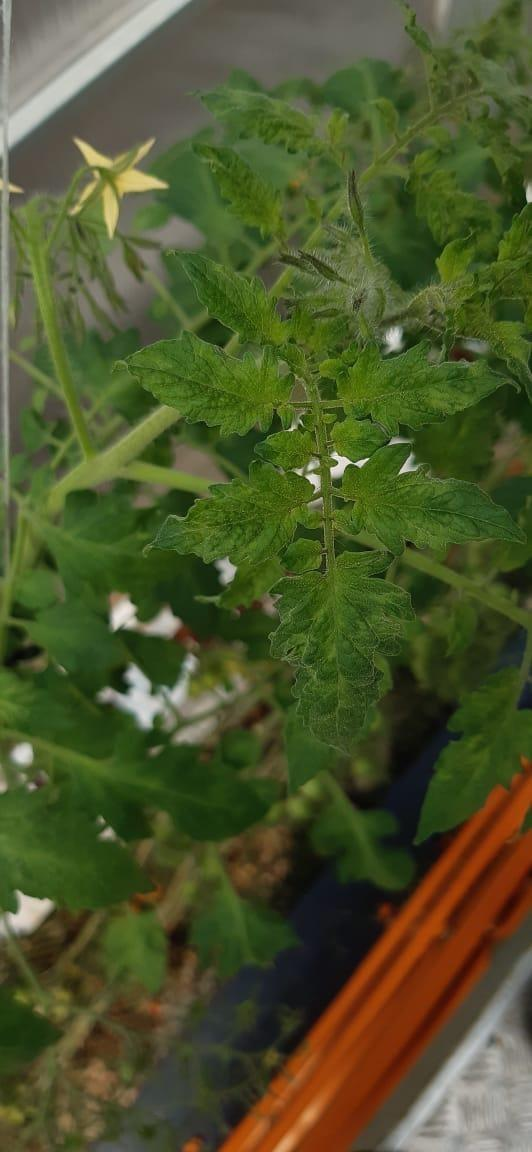Flor: (71, 139, 167, 239)
Hoja rugoso: (270, 551, 414, 747), (340, 443, 524, 555), (126, 331, 292, 434), (152, 463, 311, 564), (338, 342, 506, 432), (182, 255, 289, 350), (201, 146, 287, 241), (223, 92, 323, 153), (254, 429, 315, 470), (333, 416, 388, 460)
Pedunculo: (45, 406, 207, 513)
Pedunculo rugoso: (298, 173, 407, 350), (298, 371, 335, 582)
